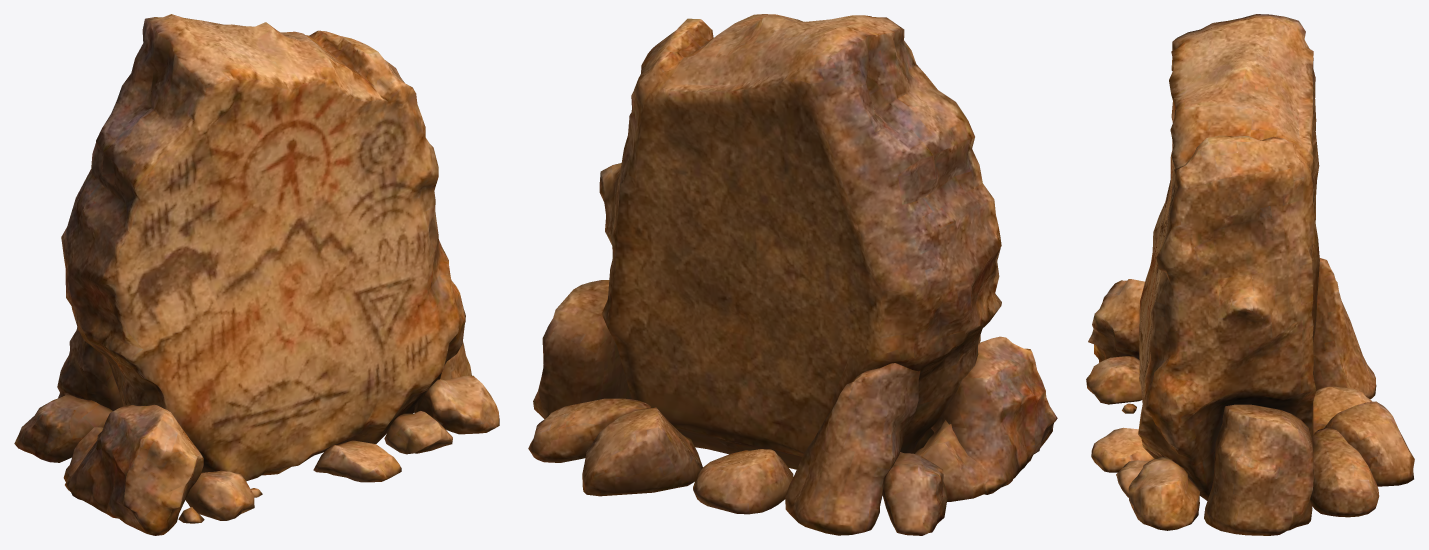
The model's file is truth-t1.glb.
The picture shows the model from 3 angles, left to right: view 1: azimuth 30°, elevation 25°; view 2: azimuth 150°, elevation 25°; view 3: azimuth 270°, elevation 25°; orthographic projection. The views are drawn at different scales.
Visible parts, largest first — view 1: tripo_node_4de7a8cc-e9e6-48ed-aee1-8fc45710571e; view 2: tripo_node_4de7a8cc-e9e6-48ed-aee1-8fc45710571e; view 3: tripo_node_4de7a8cc-e9e6-48ed-aee1-8fc45710571e.
Boxes of the visible parts, bbox=[...] form: tripo_node_4de7a8cc-e9e6-48ed-aee1-8fc45710571e: bbox=[14, 14, 499, 535]; tripo_node_4de7a8cc-e9e6-48ed-aee1-8fc45710571e: bbox=[528, 14, 1057, 535]; tripo_node_4de7a8cc-e9e6-48ed-aee1-8fc45710571e: bbox=[1086, 14, 1414, 535].
Size of the model in its own units: 0.999 by 0.9849 by 0.7387.
Materials: 1 (1 with a texture image).
